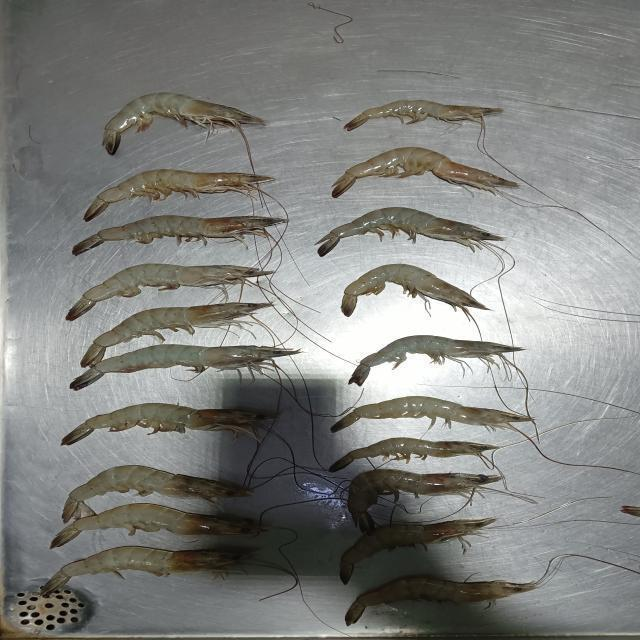shrimp: (80, 304, 259, 367), (67, 264, 268, 319), (61, 465, 251, 520), (102, 93, 266, 154), (347, 469, 502, 533), (341, 520, 492, 583), (84, 169, 272, 219), (71, 345, 298, 386), (52, 504, 262, 547), (332, 147, 516, 196), (317, 208, 503, 255), (344, 579, 536, 624), (62, 404, 276, 443), (349, 336, 524, 383), (49, 547, 247, 587), (72, 216, 285, 253), (342, 264, 487, 315), (329, 397, 528, 431), (326, 437, 498, 471), (345, 100, 501, 130)
